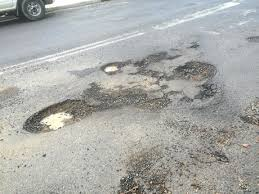pothole: (18, 91, 97, 140), (96, 57, 128, 78)
